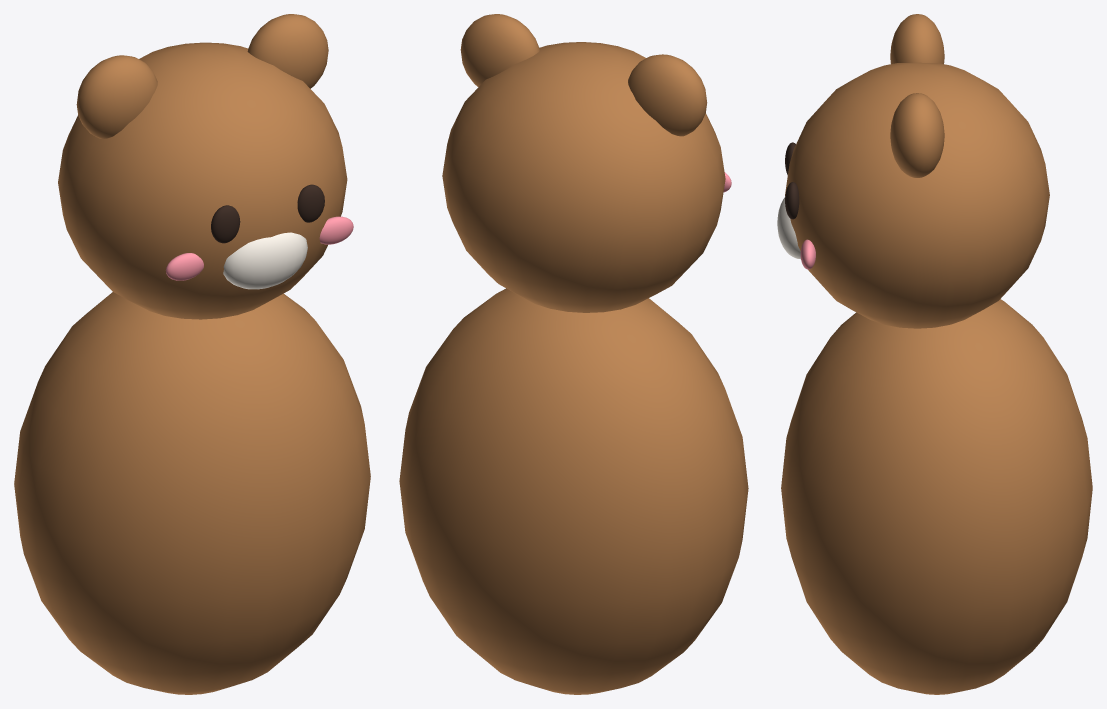
Rendered from Customer_Bear.fbx.
3 views of the same model, side by side, from view 1: azimuth 30°, elevation 25°; view 2: azimuth 150°, elevation 25°; view 3: azimuth 270°, elevation 25° (orthographic). The views are drawn at different scales.
Visible parts, largest first — view 1: Customer_Bear; view 2: Customer_Bear; view 3: Customer_Bear.
Boxes of the visible parts, x1,y1,x2,y2 form: Customer_Bear: (14,14,370,694); Customer_Bear: (399,14,748,694); Customer_Bear: (777,14,1092,694).
Size of the model in its own units: 0.9 by 1.77 by 0.81.
